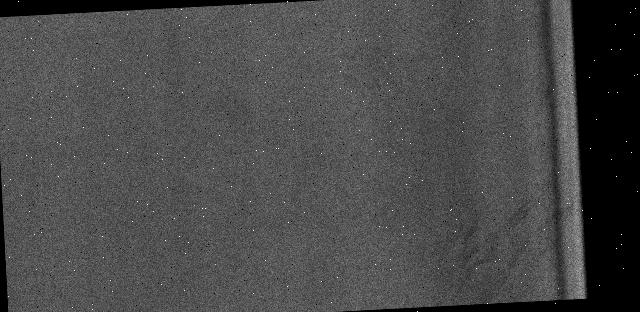water_spot: (424, 178, 538, 306)
